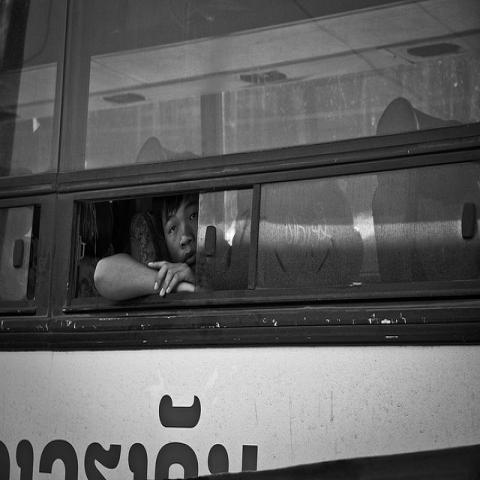bus: (2, 4, 477, 476)
